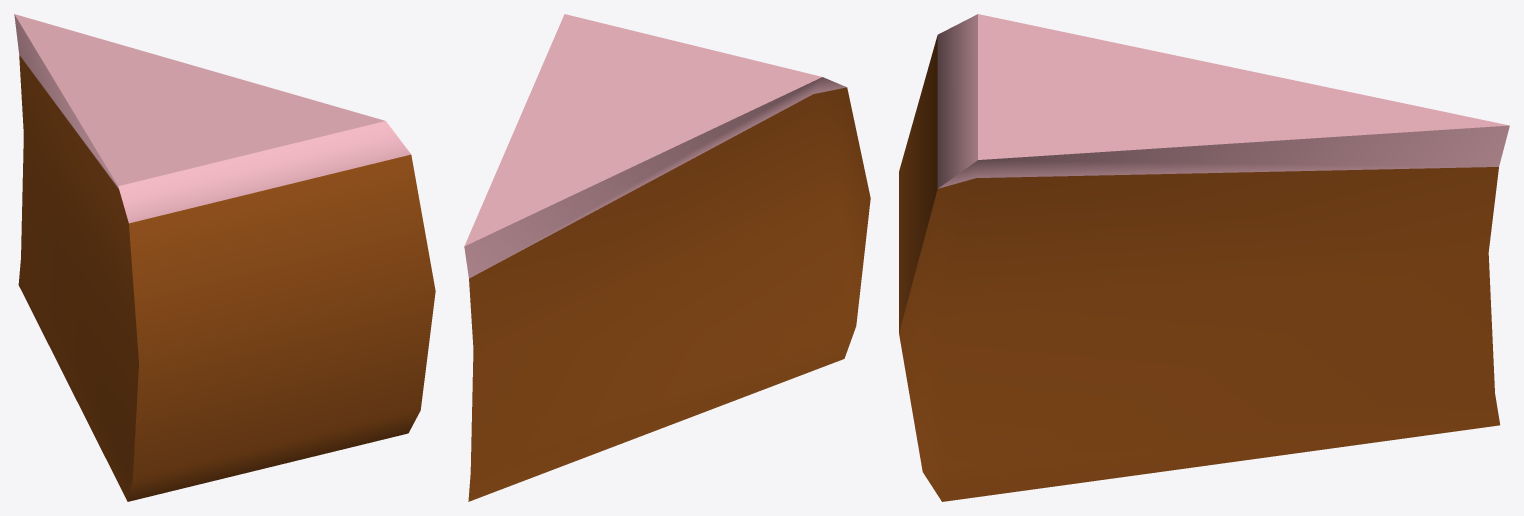
File: Piece_of_cake.fbx
3 renders of one model, left to right at view 1: azimuth 30°, elevation 25°; view 2: azimuth 150°, elevation 25°; view 3: azimuth 270°, elevation 25°, orthographic. The views are drawn at different scales.
Parts seen in each view (by area): view 1: Piece_of_Cake; view 2: Piece_of_Cake; view 3: Piece_of_Cake.
Boxes of the visible parts, bbox=[...] form: Piece_of_Cake: bbox=[14, 14, 435, 501]; Piece_of_Cake: bbox=[464, 14, 870, 501]; Piece_of_Cake: bbox=[899, 14, 1509, 501].
Size of the model in its own units: 0.6851 by 0.6674 by 1.09.
